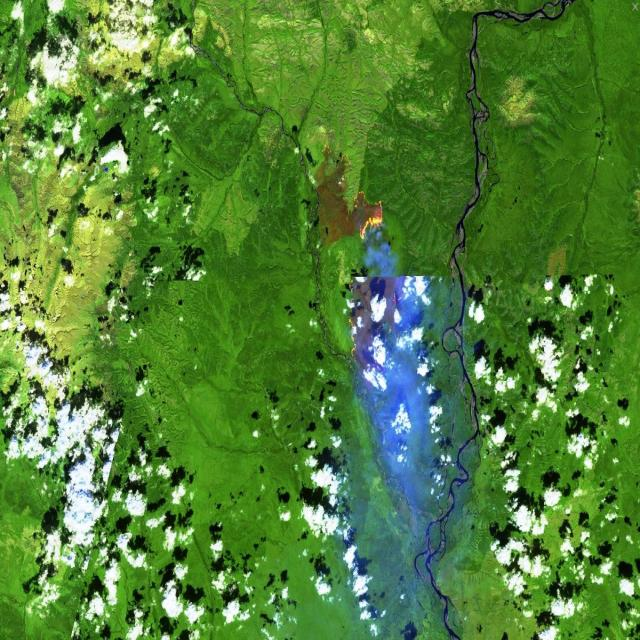fire: (347, 185, 388, 245)
